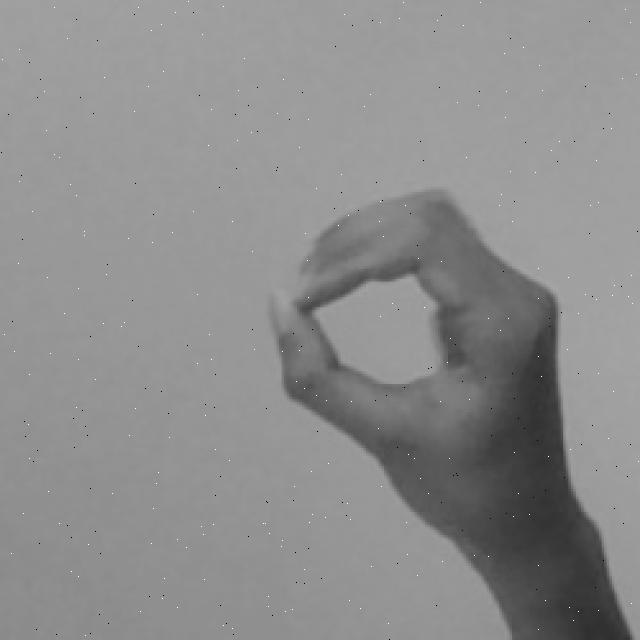O: (261, 177, 640, 638)
